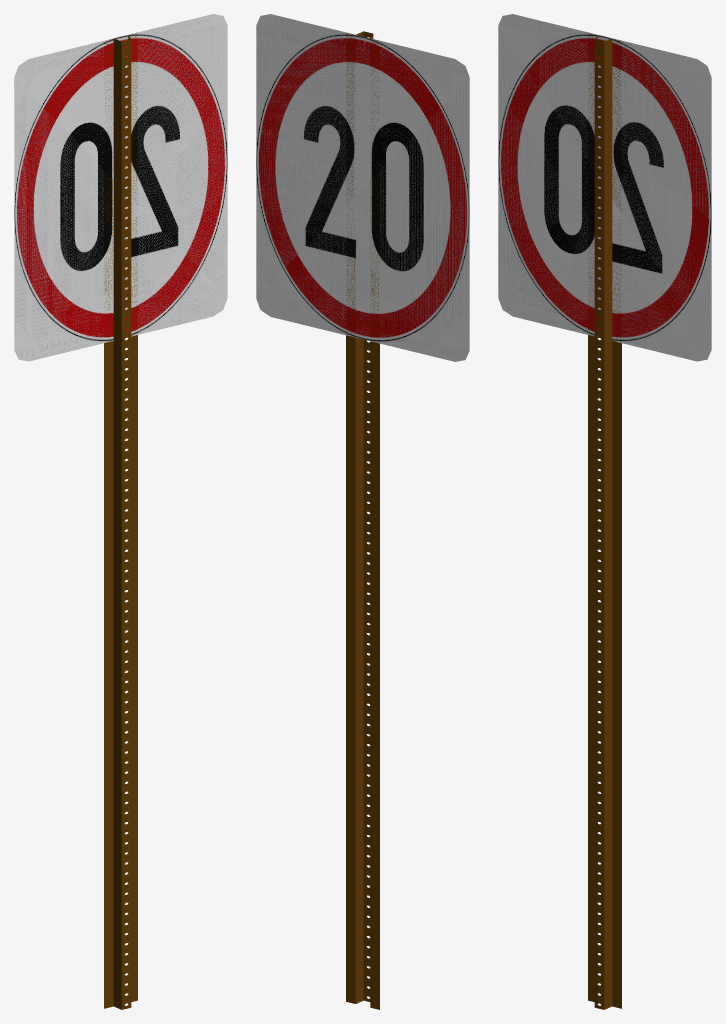
Rendered from limit20.dae.
The picture shows the model from 3 angles, left to right: view 1: azimuth 30°, elevation 25°; view 2: azimuth 150°, elevation 25°; view 3: azimuth 330°, elevation 25°; orthographic projection.
Visible parts, largest first — view 1: group_1, Component_11 (×2), Component_10, Component_12; view 2: group_1, Component_11 (×2), Component_12, Component_10; view 3: group_1, Component_11 (×2), Component_10, Component_12.
Boxes of the visible parts, bbox=[...] form: group_1: bbox=[14, 14, 227, 361]; Component_11 (×2): bbox=[104, 335, 137, 1008]; Component_10: bbox=[121, 39, 131, 1009]; Component_12: bbox=[113, 38, 121, 1009]; group_1: bbox=[256, 14, 469, 361]; Component_11 (×2): bbox=[346, 335, 379, 1009]; Component_12: bbox=[355, 31, 363, 1003]; Component_10: bbox=[363, 31, 372, 1001]; group_1: bbox=[498, 14, 711, 361]; Component_11 (×2): bbox=[588, 335, 621, 1008]; Component_10: bbox=[594, 39, 604, 1009]; Component_12: bbox=[604, 38, 612, 1009].
Size of the model in its own units: 22.14 by 1 by 96.
4 materials, 4 textured.
